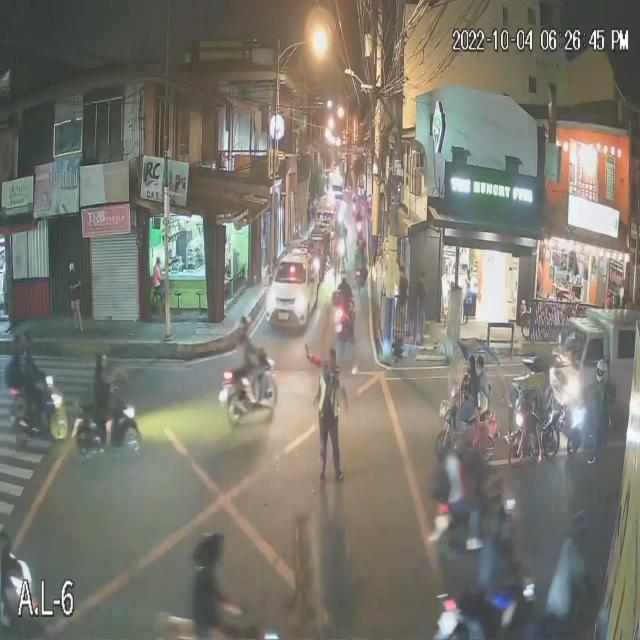Full-Faced: (192, 530, 225, 570), (483, 470, 506, 510), (567, 510, 584, 544), (92, 346, 110, 374), (6, 330, 21, 358), (594, 355, 608, 382), (20, 327, 34, 351), (338, 266, 350, 281)
